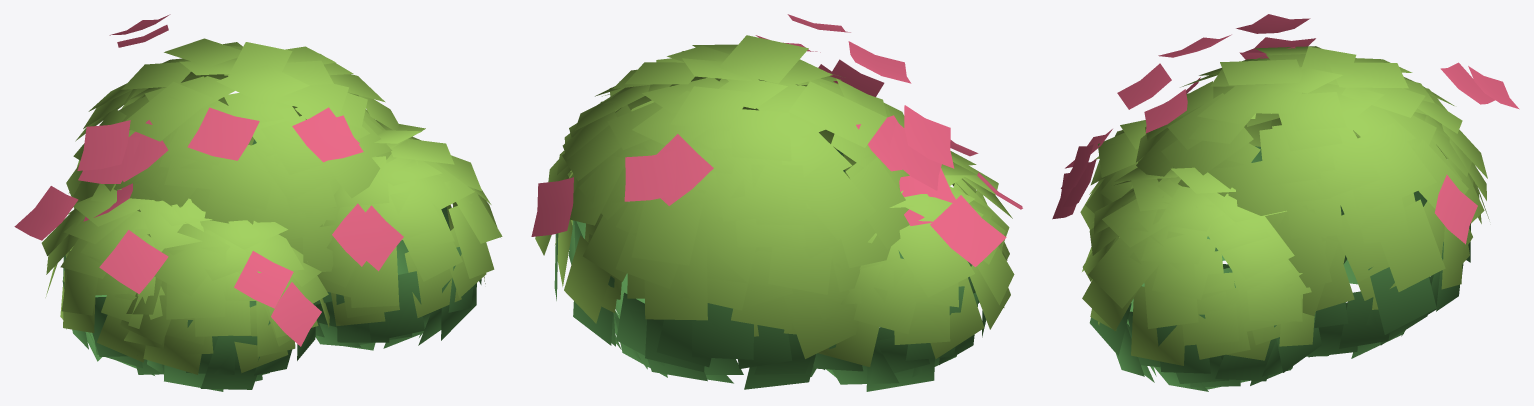
File: plant_bush_3.glb
3 renders of one model, left to right at view 1: azimuth 30°, elevation 25°; view 2: azimuth 150°, elevation 25°; view 3: azimuth 270°, elevation 25°, orthographic. The views are drawn at different scales.
Parts seen in each view (by area): view 1: plant_bush_3; view 2: plant_bush_3; view 3: plant_bush_3.
Boxes of the visible parts, bbox=[...] form: plant_bush_3: bbox=[14, 14, 502, 391]; plant_bush_3: bbox=[531, 14, 1022, 391]; plant_bush_3: bbox=[1052, 14, 1519, 391].
Size of the model in its own units: 2.11 by 1.27 by 1.99.
